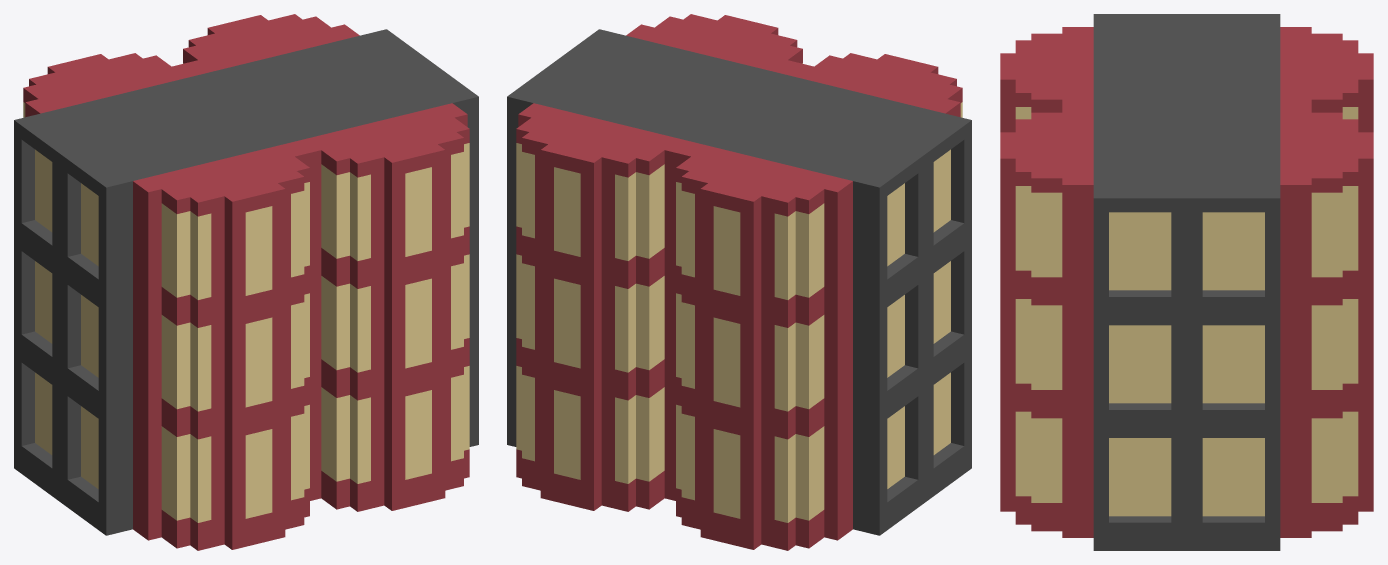
The model's file is apartment.fbx.
3 views of the same model, side by side, from view 1: azimuth 30°, elevation 25°; view 2: azimuth 150°, elevation 25°; view 3: azimuth 270°, elevation 25° (orthographic).
Visible parts, largest first — view 1: Torus; view 2: Torus; view 3: Torus.
Part boxes in pixels (box(x1,y1,x2,y2)): Torus: box(14, 14, 478, 550); Torus: box(507, 14, 971, 550); Torus: box(1000, 14, 1373, 550).
Bounding box in the file's own units: 28 × 25 × 24.
1 material, 1 textured.
